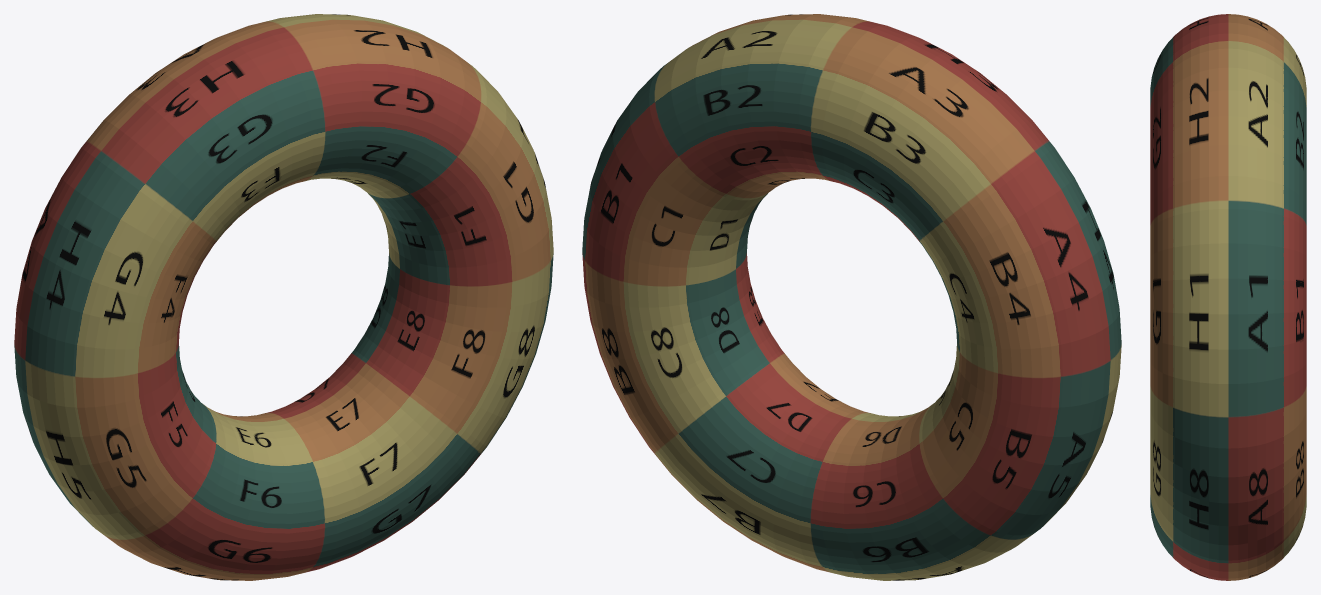
The model's file is texture_torus_R16_r22.glb.
The picture shows the model from 3 angles, left to right: view 1: azimuth 30°, elevation 25°; view 2: azimuth 150°, elevation 25°; view 3: azimuth 270°, elevation 25°; orthographic projection. The views are drawn at different scales.
Visible parts, largest first — view 1: world; view 2: world; view 3: world.
Boxes of the visible parts, x1,y1,x2,y2 form: world: [14, 14, 553, 580]; world: [582, 14, 1121, 580]; world: [1150, 14, 1306, 580].
Bounding box in the file's own units: 28.53 × 28.48 × 7.85.
1 material, 1 textured.
